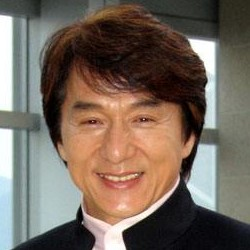unmask: (51, 56, 190, 216)
